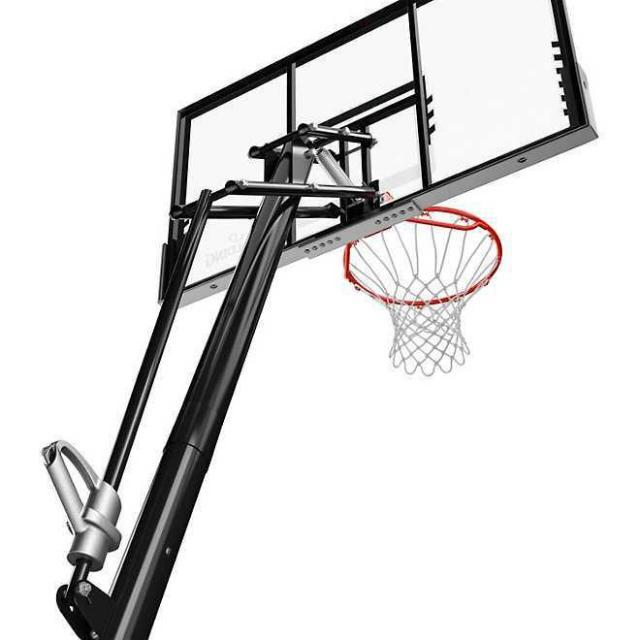hoop: (344, 206, 504, 376)
